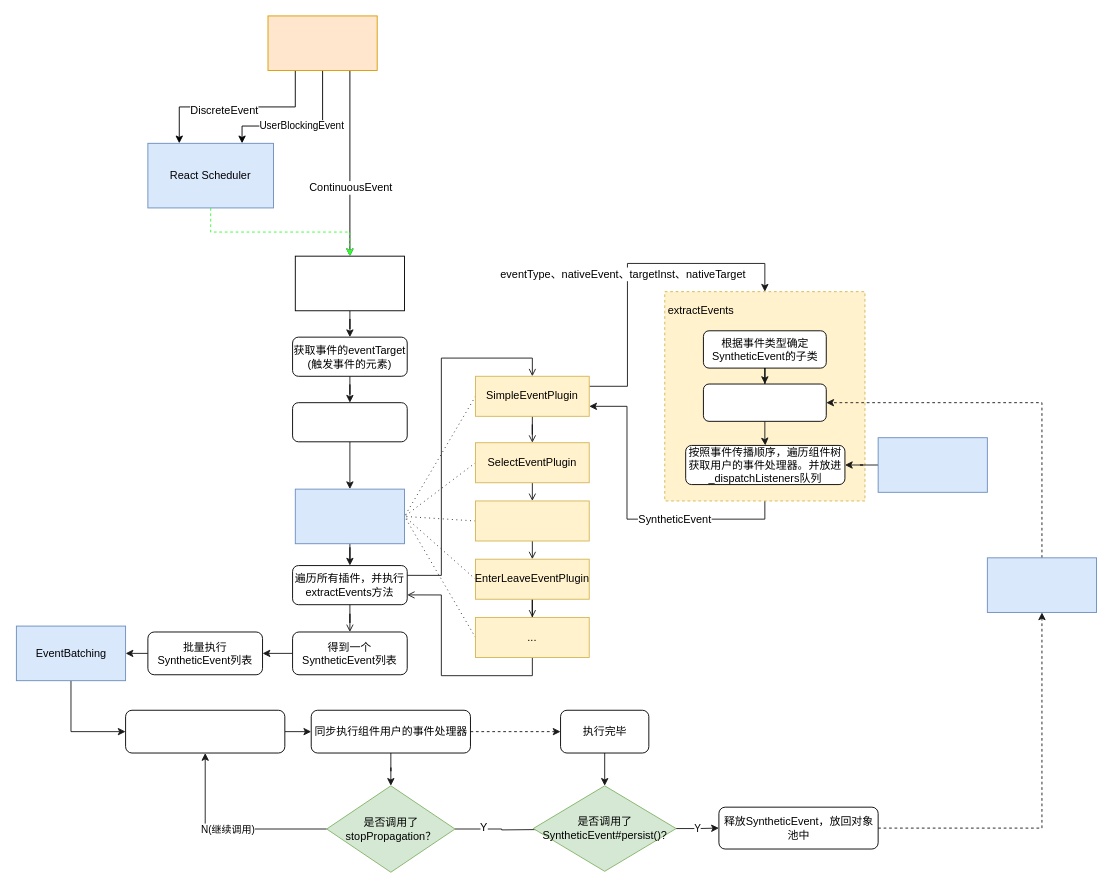
Image size: 1112x888. Some labels were removed from this diagram. The centre of each missing label's shape, as x and y in pixels:
"ChangeEventPlugin" goes at (532,520).
"dispatchEvent" goes at (349,283).
"DOM (触发事件)" goes at (322,43).
"EventPluginHub" goes at (349,516).
"EventPropagators" goes at (932,464).
"SyntheticEvent Pool" goes at (1041,584).
"从对象池中获取SyntheticEvent" goes at (764,402).
"按顺序执行SyntheticEvent中的_dispatchListeners(表示组件树实际的事件处理器)队列" goes at (205,731).
"获取距离eventTarget最近的组件实例" goes at (349,422).
